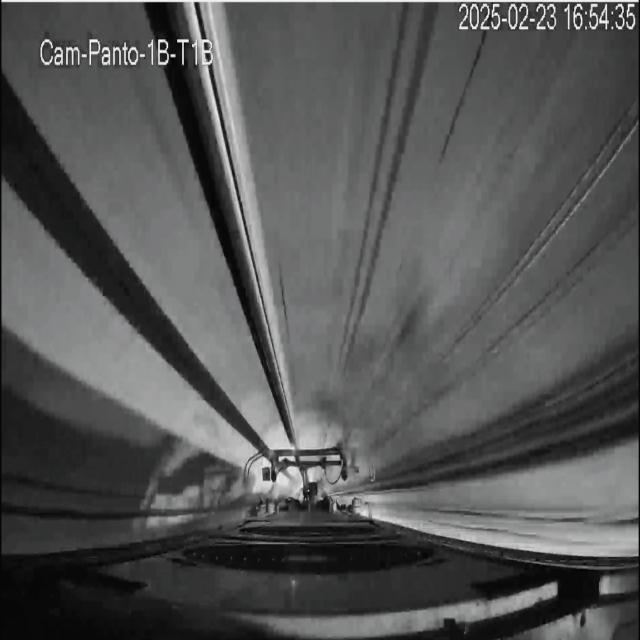Camera Stamp: (38, 31, 220, 69)
Date Stamp: (459, 3, 636, 32)
Sparks: (289, 443, 298, 454)
